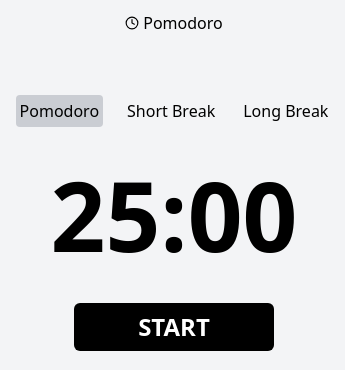
Scenario: Main App Testing › start button click event gives stop button
This screenshot has width=345, height=370.
Step 1. Click the button "Start" → [174, 327], box [74,303,274,351]
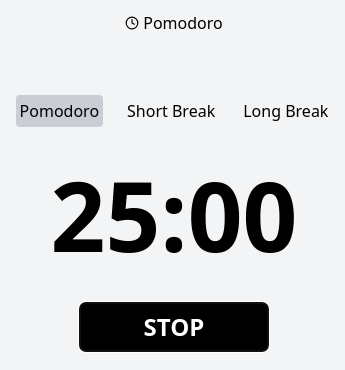
Check: the button "Stop" is shown, box [80,303,268,351]
